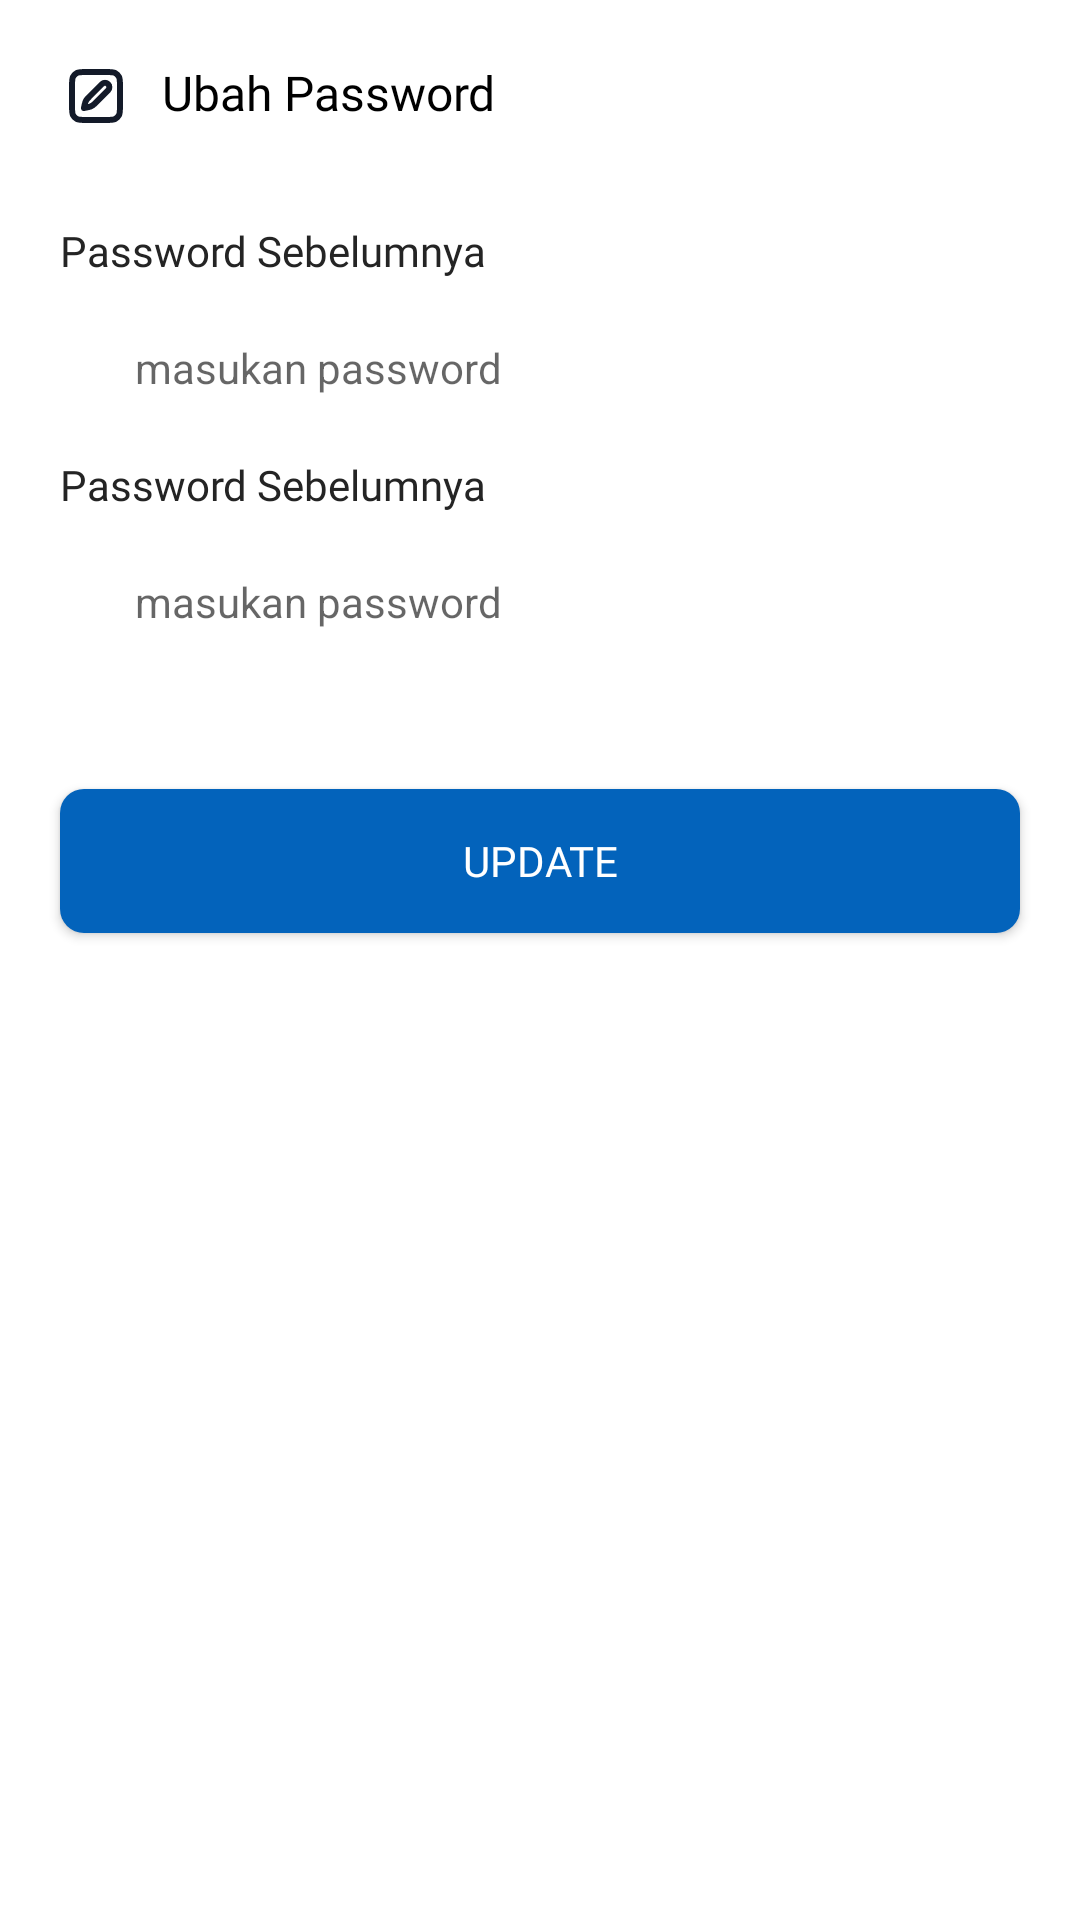

Icon bounding boxes for this 1080 x 1920 phone screenshot, format (x1, y1, x2, y2):
square pen: (69, 69, 123, 123)
